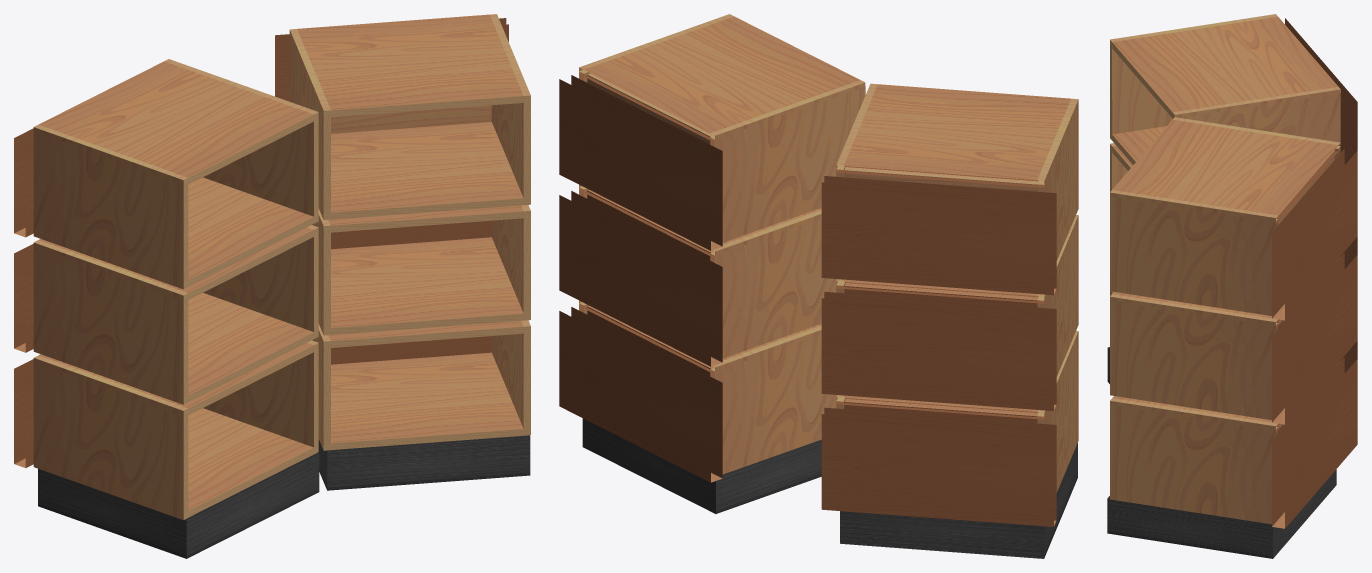
The model's file is layout_3_shelves_2_columns_simple_open_on_pad.fbx.
3 renders of one model, left to right at view 1: azimuth 30°, elevation 25°; view 2: azimuth 150°, elevation 25°; view 3: azimuth 270°, elevation 25°, orthographic. The views are drawn at different scales.
Visible parts, largest first — view 1: Shelf-TM-00 5, Shelf-TM-00 2, Shelf-CL-01 2, Shelf-CL-01 1, Shelf-BM-00 5, Shelf-BM-00 4, Shelf-CL-01, Shelf-BM-00 3, Decoration, Decoration (1), Shelf-BM-00 2, Shelf-BM-00 (+30 smaller); view 2: Shelf-Back-00 (1) 2, Shelf-Back-00 (1), Shelf-Back-00 (1) 1, Shelf-Back-00 (1) 3, Shelf-Back-00 (1) 5, Shelf-Back-00 (1) 4, Shelf-TM-00 2, Shelf-TM-00 5, Shelf-CL-01 5, Shelf-CL-01 4, Shelf-CL-01 3, Decoration (1) (+23 smaller); view 3: Shelf-CR-01 5, Shelf-CR-01 4, Shelf-CR-01 3, Shelf-TM-00 2, Shelf-TM-00 5, Shelf-Back-00 (1) 3, Shelf-Back-00 (1) 4, Shelf-Back-00 (1) 5, Decoration (1), Shelf-CR-01 2, Shelf-CL-01 2, Shelf-Back-00 (1) 2 (+14 smaller).
Boxes of the visible parts, x1,y1,x2,y2 form: Shelf-TM-00 5: [297, 14, 523, 117]; Shelf-TM-00 2: [38, 61, 313, 184]; Shelf-CL-01 2: [33, 131, 188, 282]; Shelf-CL-01 1: [33, 246, 188, 397]; Shelf-BM-00 5: [331, 122, 523, 219]; Shelf-BM-00 4: [331, 237, 523, 334]; Shelf-CL-01: [33, 362, 188, 512]; Shelf-BM-00 3: [331, 352, 523, 449]; Decoration: [38, 453, 319, 558]; Decoration (1): [317, 435, 530, 490]; Shelf-BM-00 2: [188, 177, 313, 286]; Shelf-BM-00: [188, 408, 313, 517]; Shelf-Back-00 (1) 2: [821, 176, 1056, 295]; Shelf-Back-00 (1): [821, 407, 1056, 526]; Shelf-Back-00 (1) 1: [821, 291, 1056, 410]; Shelf-Back-00 (1) 3: [559, 307, 722, 482]; Shelf-Back-00 (1) 5: [559, 75, 722, 250]; Shelf-Back-00 (1) 4: [559, 191, 722, 366]; Shelf-TM-00 2: [843, 84, 1070, 187]; Shelf-TM-00 5: [584, 16, 859, 139]; Shelf-CL-01 5: [710, 86, 865, 235]; Shelf-CL-01 4: [710, 218, 836, 351]; Shelf-CL-01 3: [710, 335, 836, 467]; Decoration (1): [582, 418, 821, 513]; Shelf-CR-01 5: [1110, 196, 1277, 309]; Shelf-CR-01 4: [1110, 300, 1277, 413]; Shelf-CR-01 3: [1110, 404, 1277, 517]; Shelf-TM-00 2: [1112, 16, 1338, 117]; Shelf-TM-00 5: [1112, 120, 1337, 221]; Shelf-Back-00 (1) 3: [1272, 357, 1357, 528]; Shelf-Back-00 (1) 4: [1272, 253, 1357, 424]; Shelf-Back-00 (1) 5: [1272, 149, 1357, 320]; Decoration (1): [1107, 469, 1336, 558]; Shelf-CR-01 2: [1172, 93, 1340, 142]; Shelf-CL-01 2: [1110, 43, 1172, 134]; Shelf-Back-00 (1) 2: [1285, 18, 1357, 164].
Size of the model in its own units: 232 by 171 by 113.
